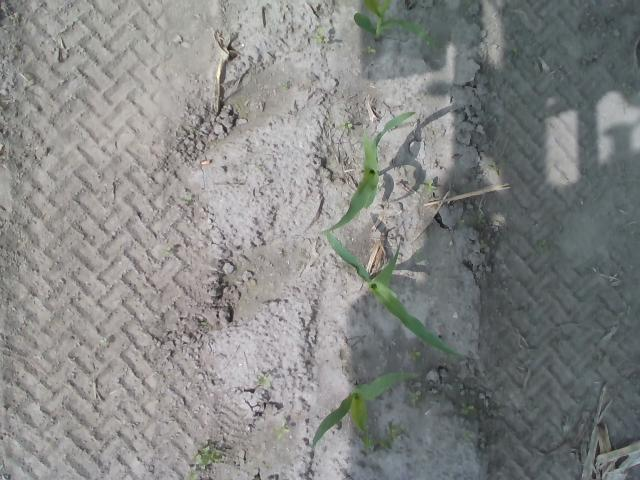Maize: (322, 232, 464, 359), (322, 111, 416, 238), (312, 370, 420, 448), (353, 0, 434, 45)
Weeds: (383, 419, 409, 449), (192, 446, 222, 468), (272, 425, 290, 440), (460, 401, 478, 416), (408, 390, 424, 406), (408, 347, 423, 362), (314, 29, 328, 44), (366, 436, 378, 452), (182, 470, 200, 480), (362, 46, 379, 55), (424, 179, 435, 192), (256, 374, 270, 384), (338, 122, 354, 130)
